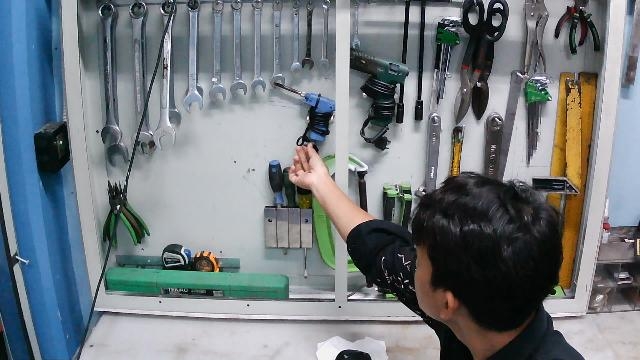solder_electrical: (272, 80, 335, 154)
